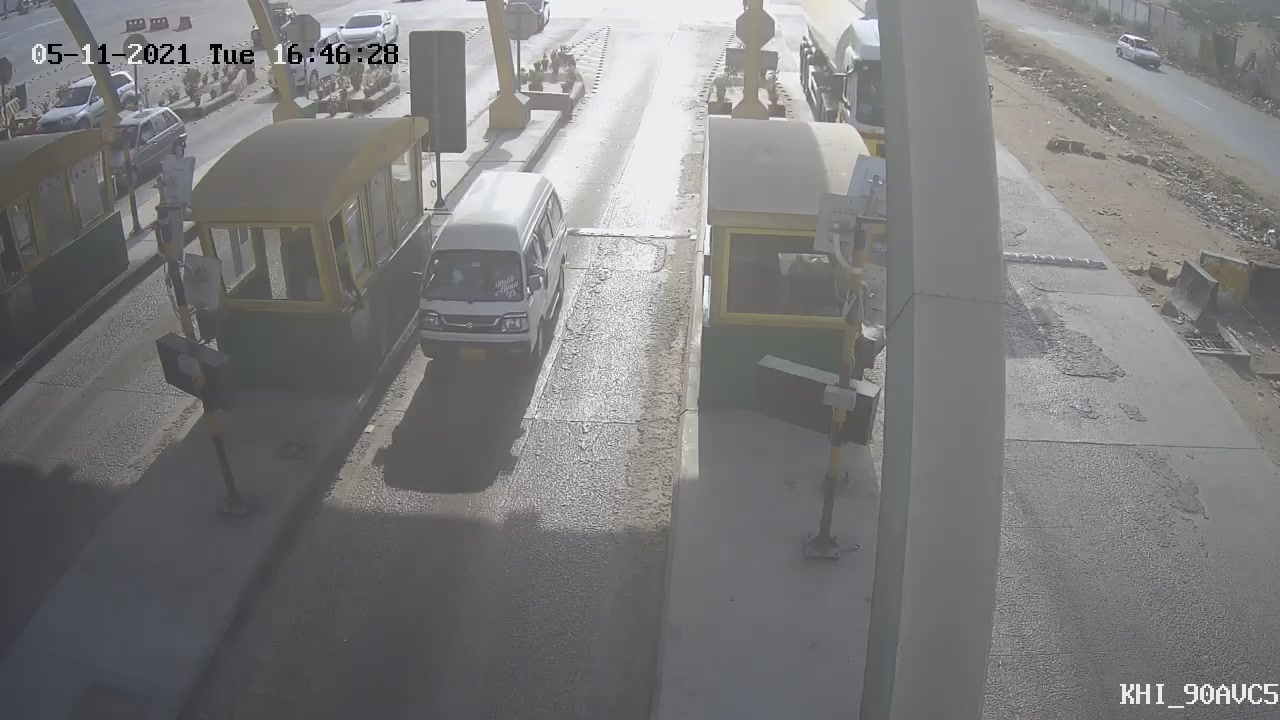F1: (383, 152, 586, 394)
